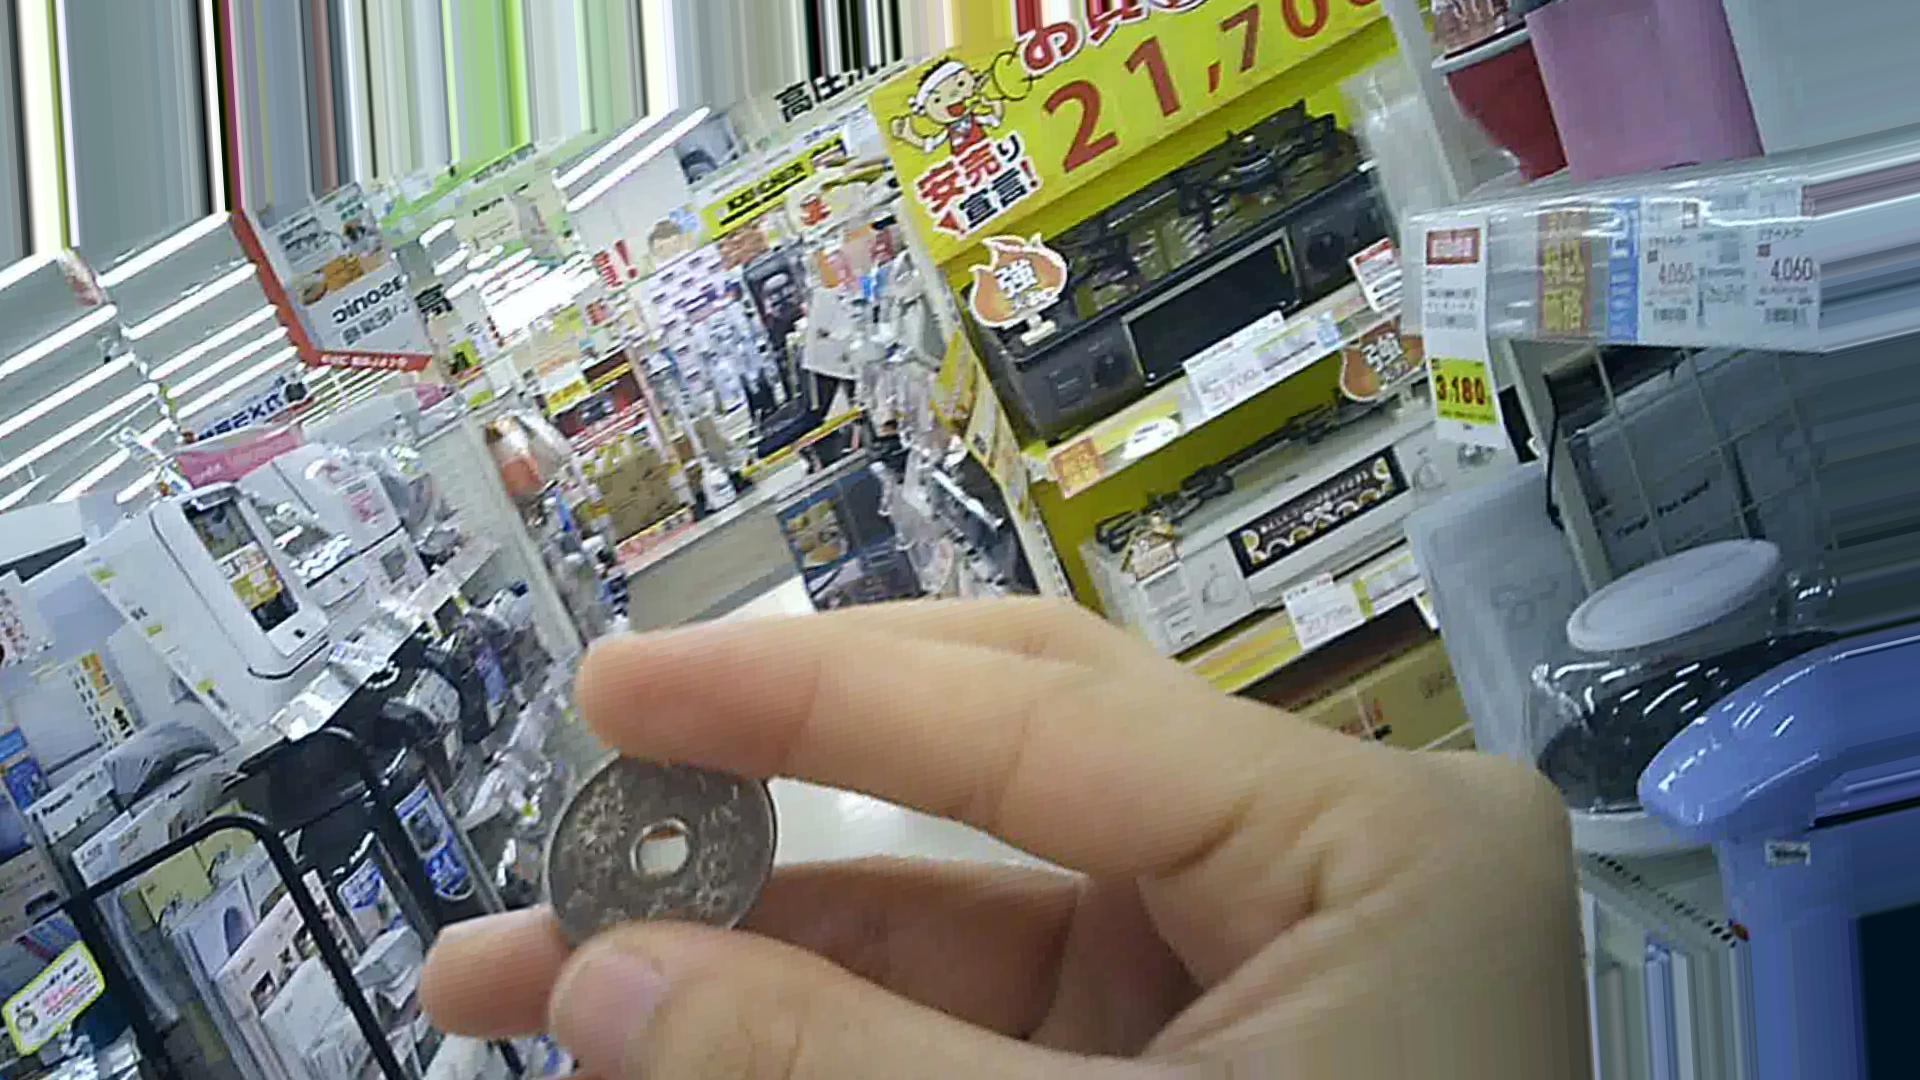50 Yen: (526, 744, 769, 971)
